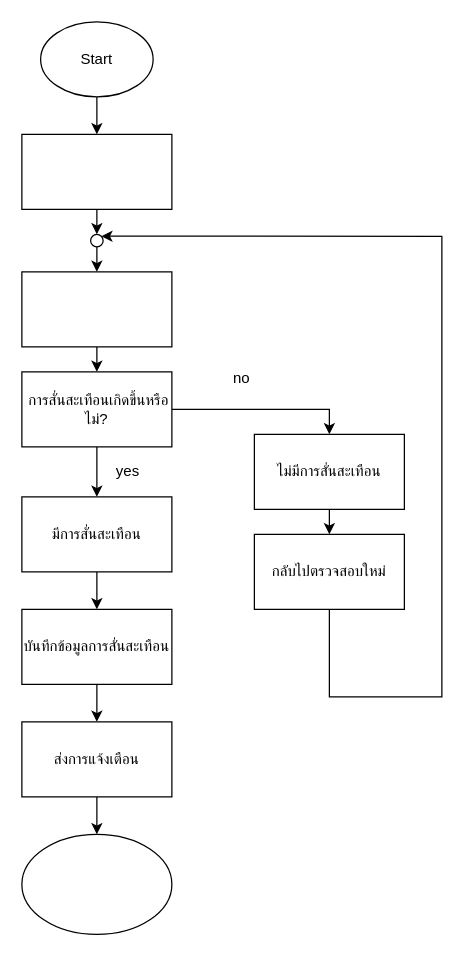
Some shapes in this 474 by 956 pixel diagram are drawn without their labels. Each missing label, with the centre of its shape:
"End" goes at (x=96, y=883).
"ตรวจสอบการสั่นสะเทือน" goes at (x=96, y=309).
"เซ็นเซอร์พร้อมใช้งาน" goes at (x=96, y=171).
